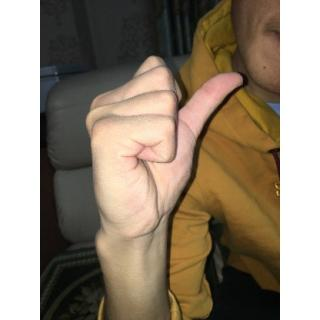WAW: (76, 48, 250, 248)
